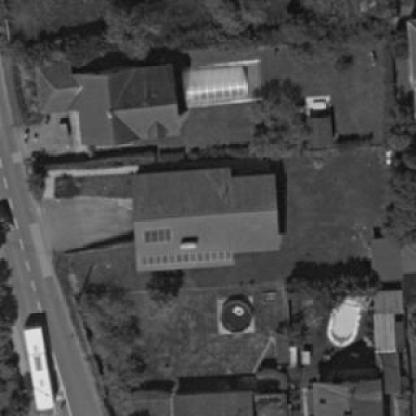solar-pv-panel: (143, 252, 230, 265), (146, 229, 171, 243)
